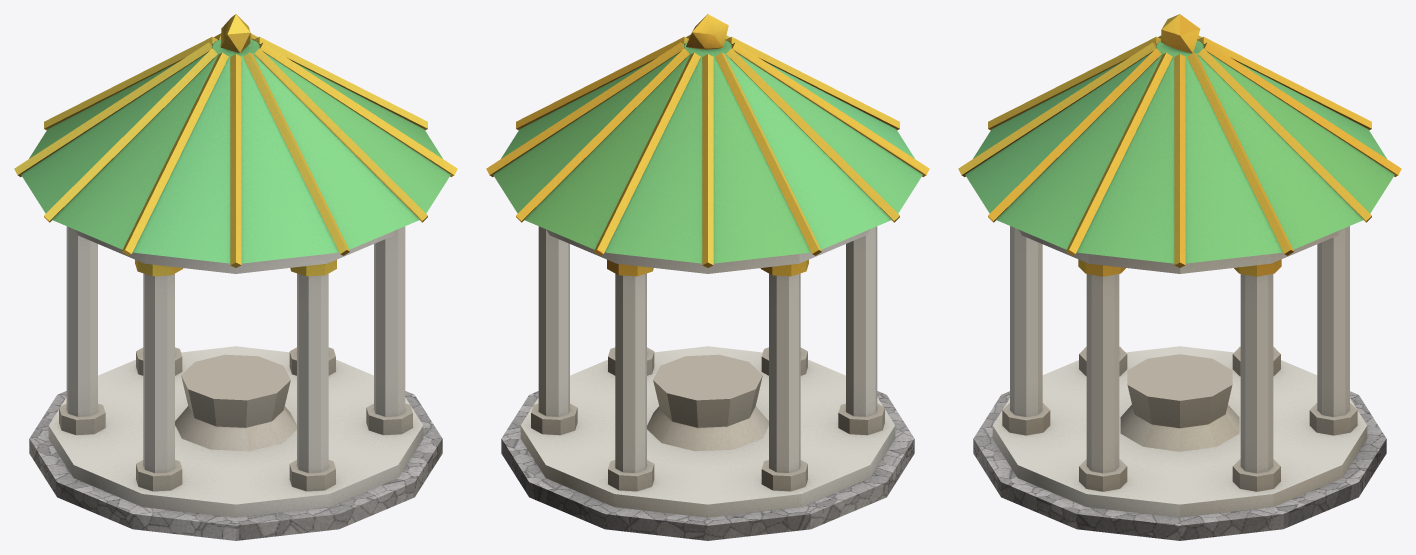
Rendered from hub_shrine_meadow.fbx.
The picture shows the model from 3 angles, left to right: view 1: azimuth 30°, elevation 25°; view 2: azimuth 150°, elevation 25°; view 3: azimuth 270°, elevation 25°; orthographic projection.
Parts seen in each view (by area): view 1: hub_shrine_meadow_body; view 2: hub_shrine_meadow_body; view 3: hub_shrine_meadow_body.
Part boxes in pixels (x1,y1,x2,y2): hub_shrine_meadow_body: (14,14,457,540); hub_shrine_meadow_body: (486,14,929,540); hub_shrine_meadow_body: (958,14,1401,540).
Size of the model in its own units: 924 by 1010 by 924.
1 material, 1 textured.
